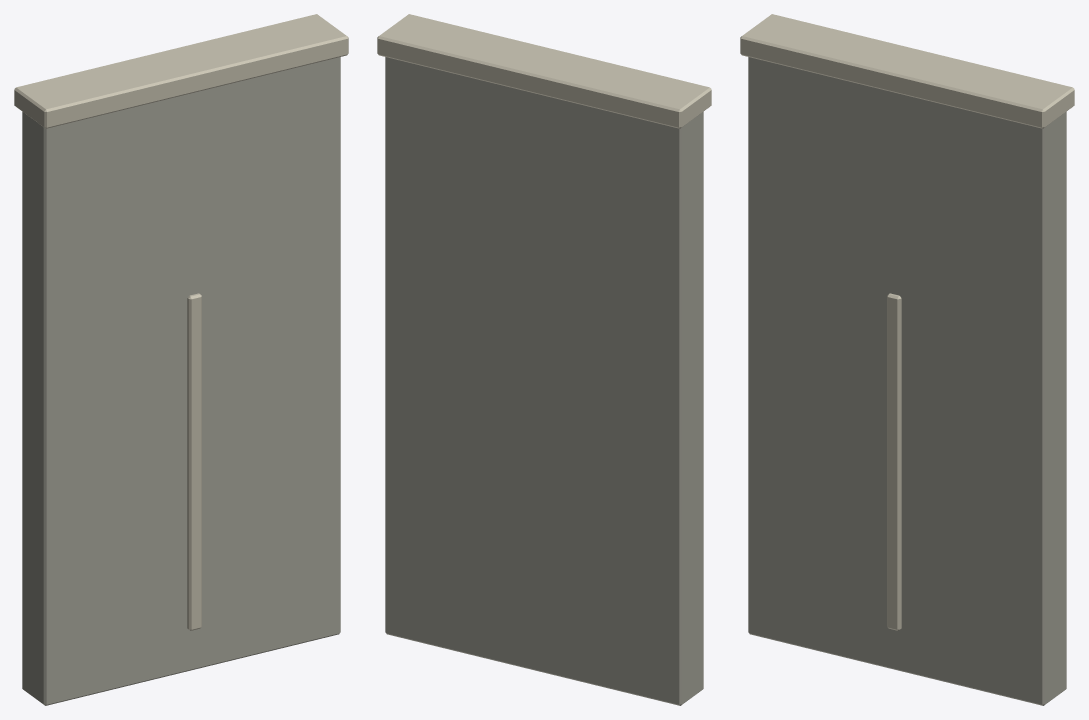
The model's file is tower_shell_wall.glb.
3 views of the same model, side by side, from view 1: azimuth 30°, elevation 25°; view 2: azimuth 150°, elevation 25°; view 3: azimuth 330°, elevation 25° (orthographic).
Parts seen in each view (by area): view 1: TV_tower_shell_wall; view 2: TV_tower_shell_wall; view 3: TV_tower_shell_wall.
Boxes of the visible parts, x1=… form: TV_tower_shell_wall: x1=14, y1=14, x2=348, y2=705; TV_tower_shell_wall: x1=377, y1=14, x2=711, y2=705; TV_tower_shell_wall: x1=740, y1=14, x2=1074, y2=705.
Size of the model in its own units: 4.1 by 7.72 by 0.75.
